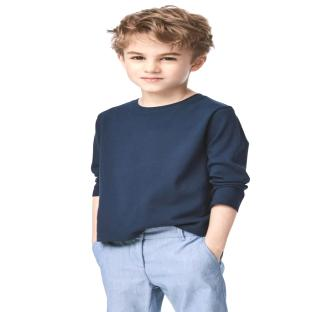Human: (91, 6, 249, 312)
